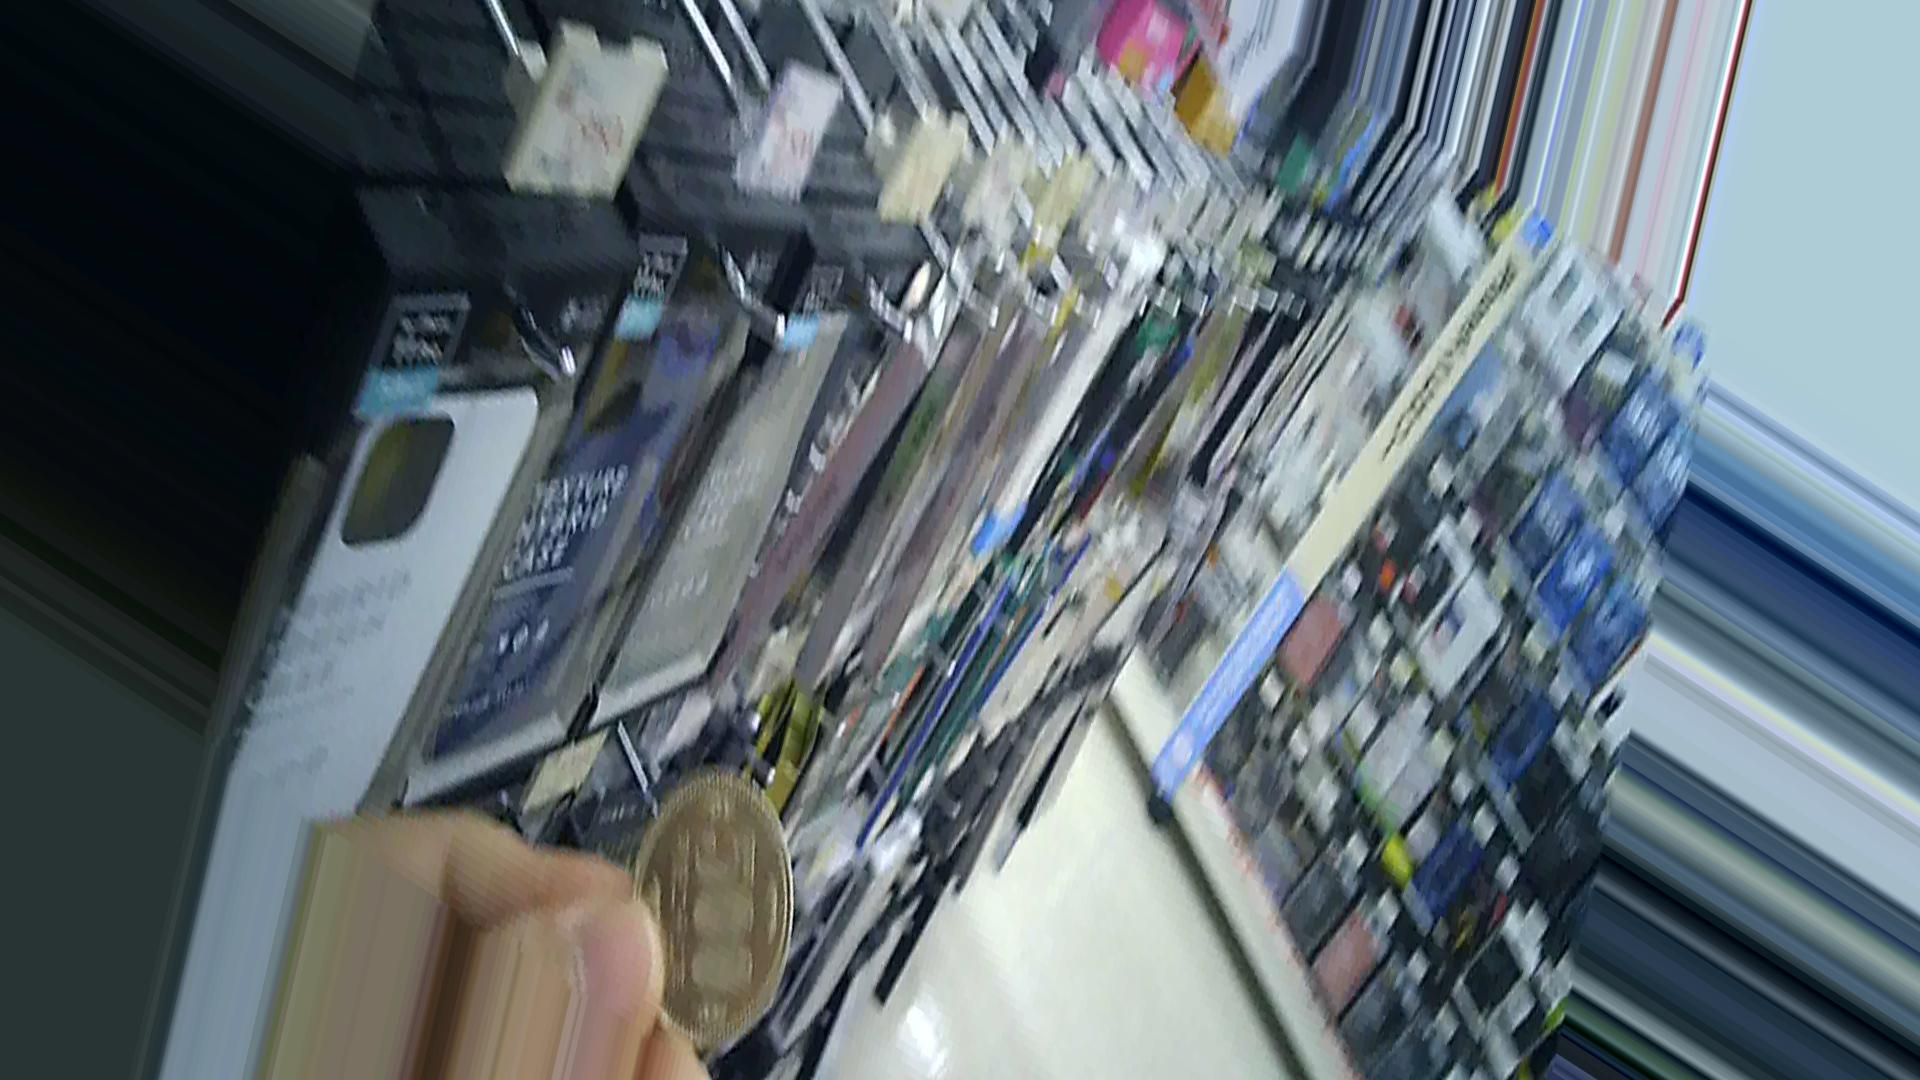500 Yen: (605, 771, 798, 1044)
